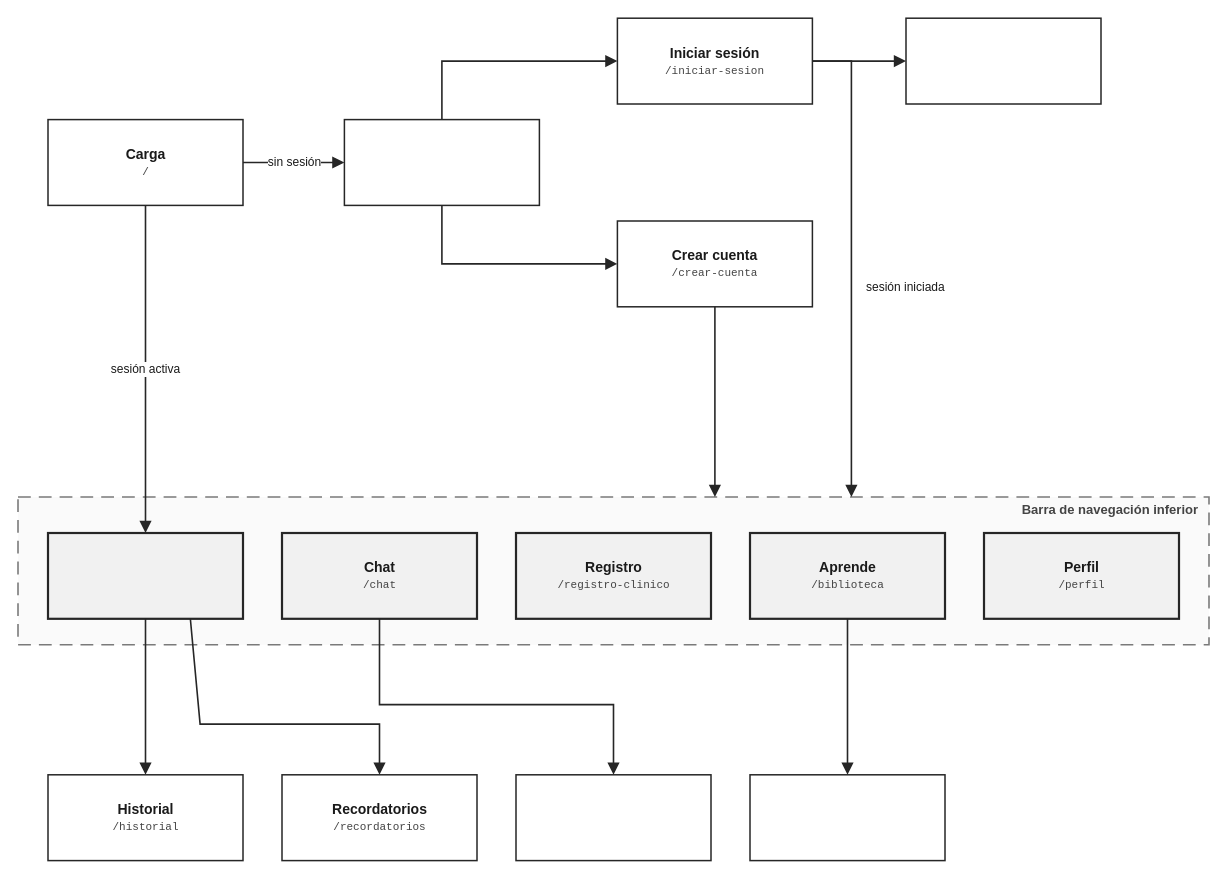
Image size: 1227x878. Some labels were removed from this diagram. Here are the shapes that lost their labels. From the top down, the centre of each, then its label:
At [1003,60]: "Recuperar acceso /recuperar-acceso".
At [441,162]: "Bienvenida /bienvenida".
At [145,575]: "Inicio /dashboard".
At [613,817]: "Preguntas frecuentes /faq".
At [847,817]: "Detalle de material /biblioteca/:id".
